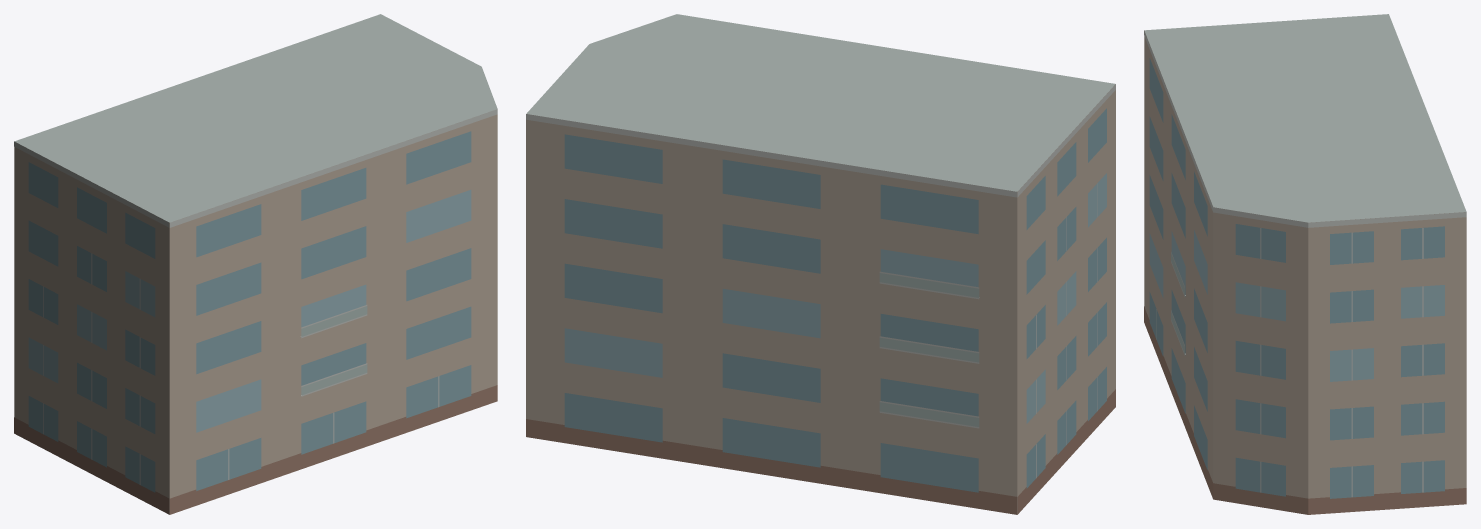
File: survey-upis-32704966.glb
3 renders of one model, left to right at view 1: azimuth 30°, elevation 25°; view 2: azimuth 150°, elevation 25°; view 3: azimuth 270°, elevation 25°, orthographic. The views are drawn at different scales.
Parts seen in each view (by area): view 1: survey-upis-32704966.tmp; view 2: survey-upis-32704966.tmp; view 3: survey-upis-32704966.tmp.
Boxes of the visible parts, <box> form: survey-upis-32704966.tmp: <box>14,14,497,514</box>; survey-upis-32704966.tmp: <box>526,14,1115,514</box>; survey-upis-32704966.tmp: <box>1144,14,1466,514</box>.
Bounding box in the file's own units: 20.83 × 13.6 × 13.61.
